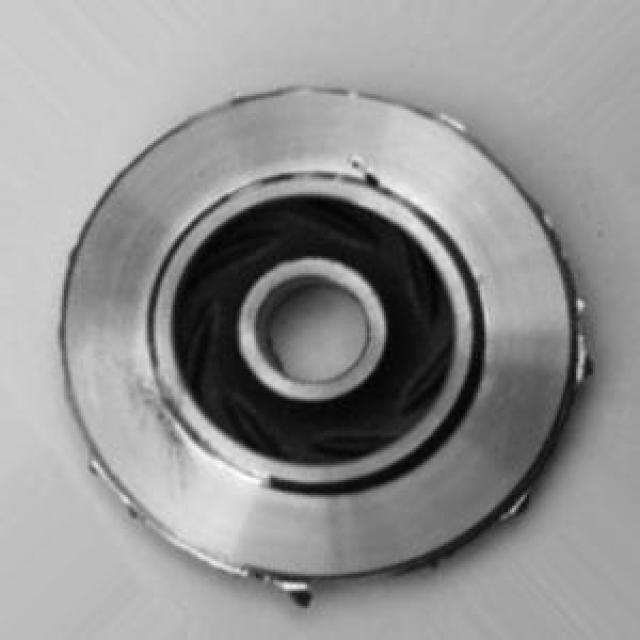Defect: (341, 150, 398, 204)
